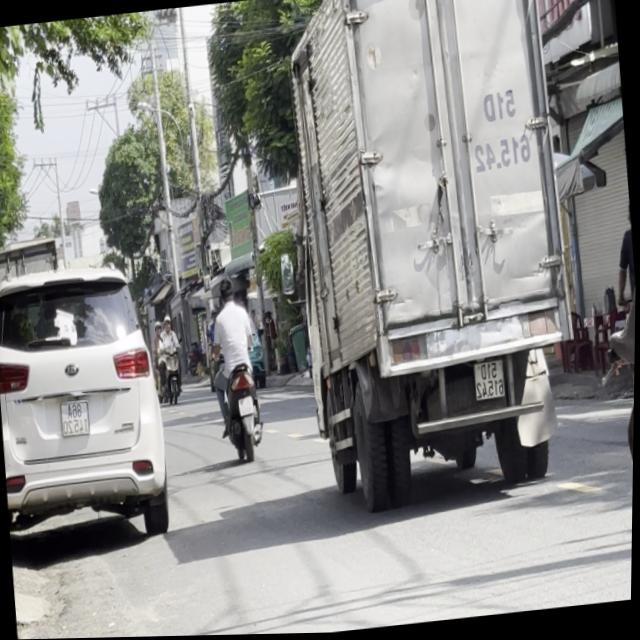licenseplate: (205, 271, 271, 465)
motorcyclist: (219, 276, 237, 306)
nohelmet: (239, 396, 256, 417)
